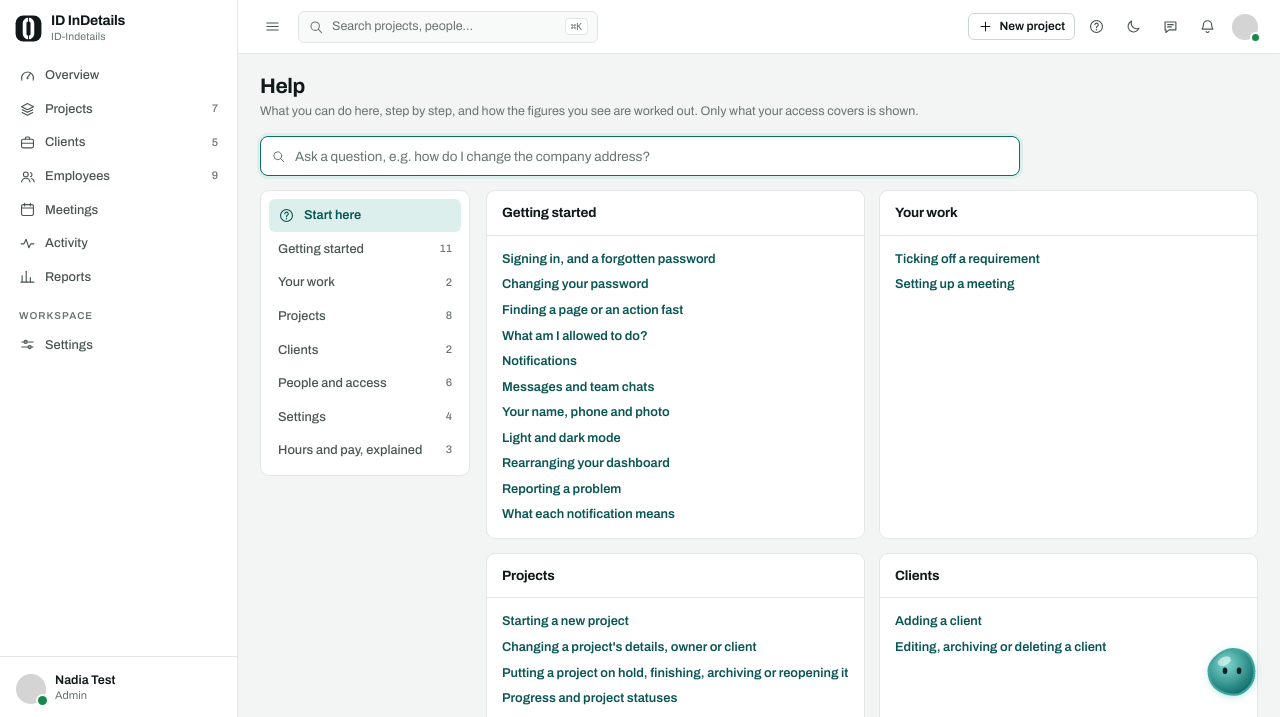
Proton › answer a question with links to what it is about, and show the allowance, never money
Expected: the field named "Search Help" is shown, x1=260 y1=136 x2=1020 y2=176
Click the button named "Proton, ": (1232, 672) x1=1200 y1=640 x2=1264 y2=704
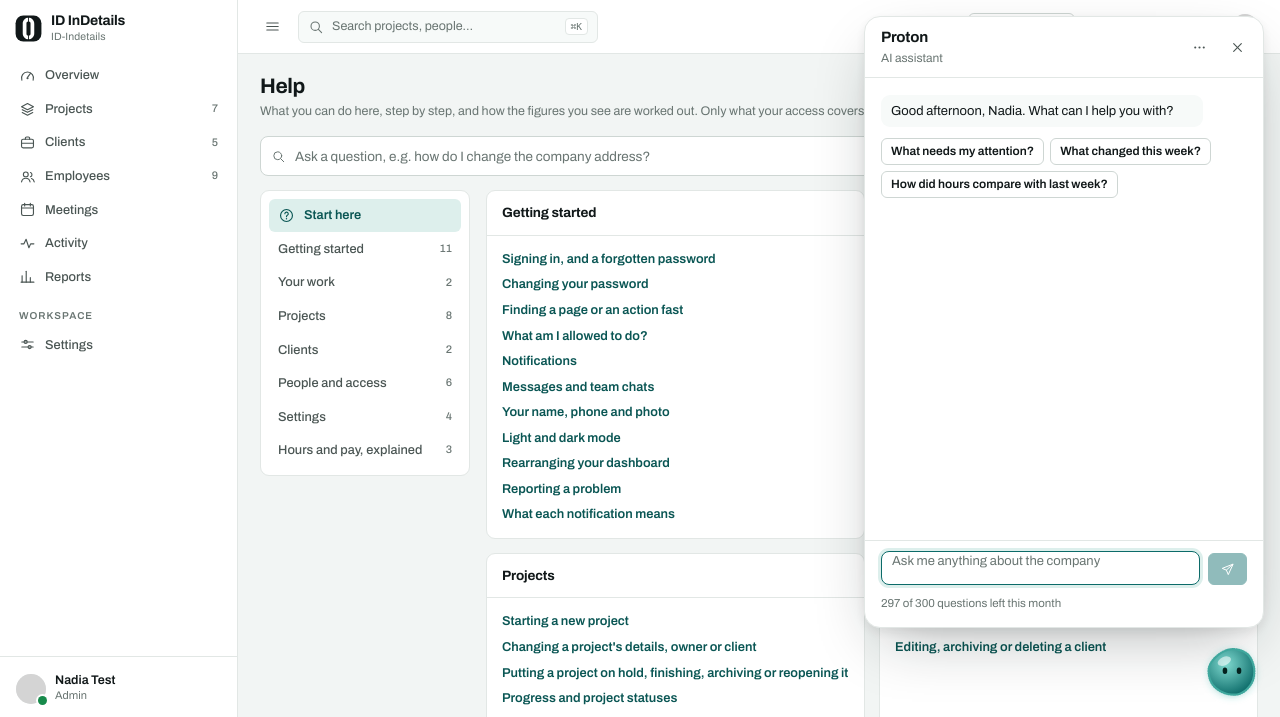
In the text box named "Ask Proton": (1040, 568) x1=881 y1=551 x2=1200 y2=585, type "How is Villa Mounir doing?"
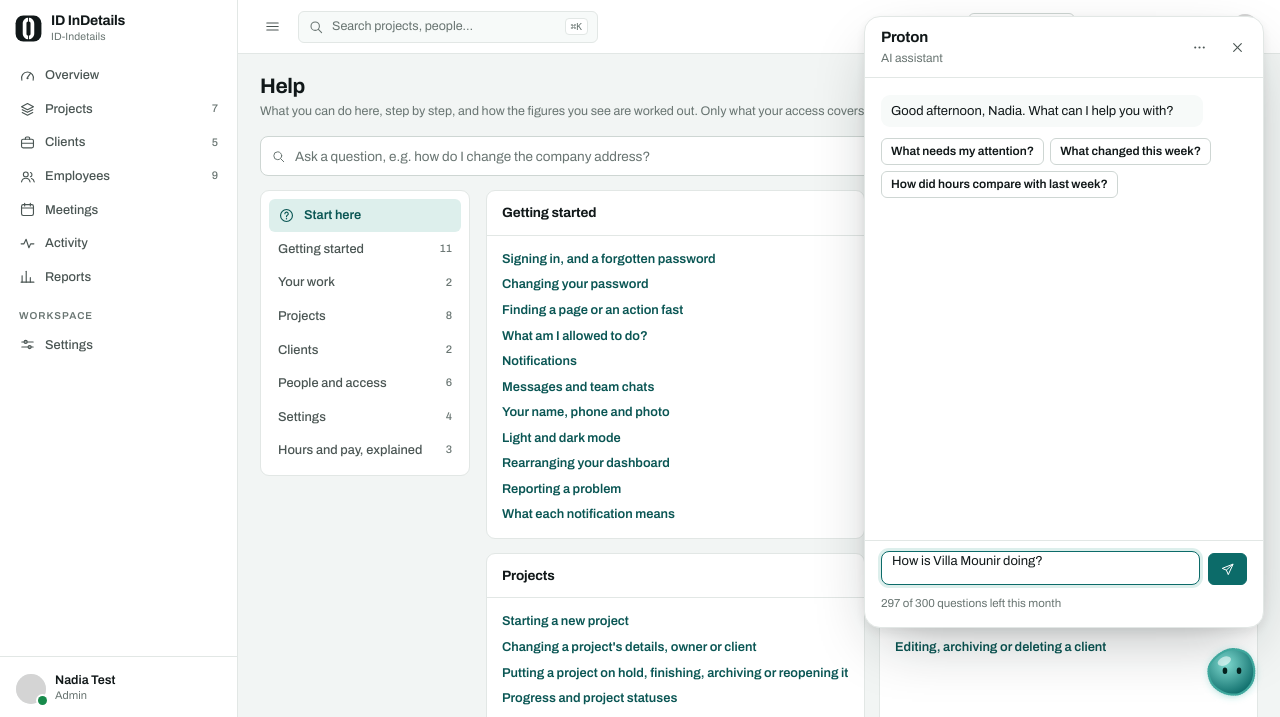
Click the button named "Send": (1228, 569) x1=1208 y1=553 x2=1247 y2=585
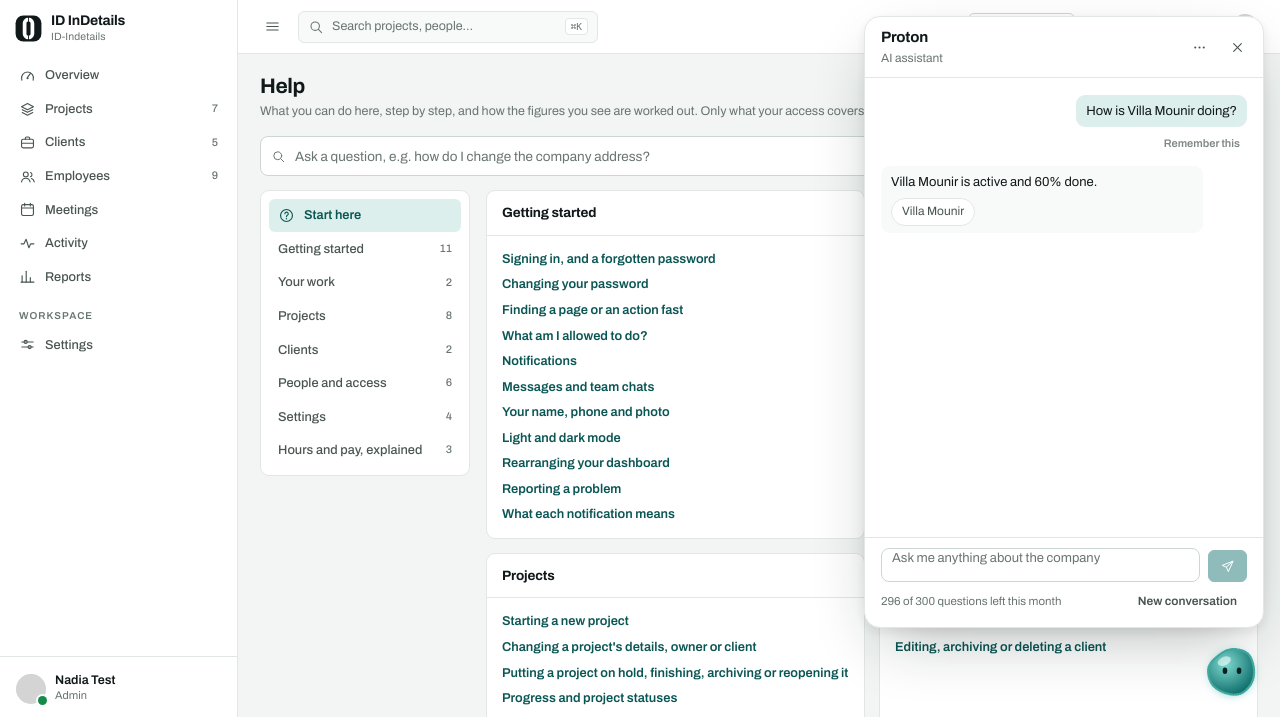
Now the text "Villa Mounir is active and 60% done." is shown, box x1=891 y1=175 x2=1097 y2=189
Now the text "296 of 300 questions left this month" is shown, box x1=881 y1=595 x2=1061 y2=607
